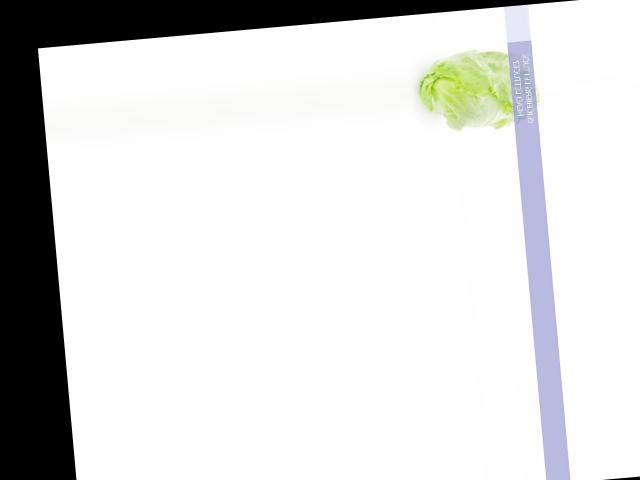lettuce: (410, 47, 542, 136)
